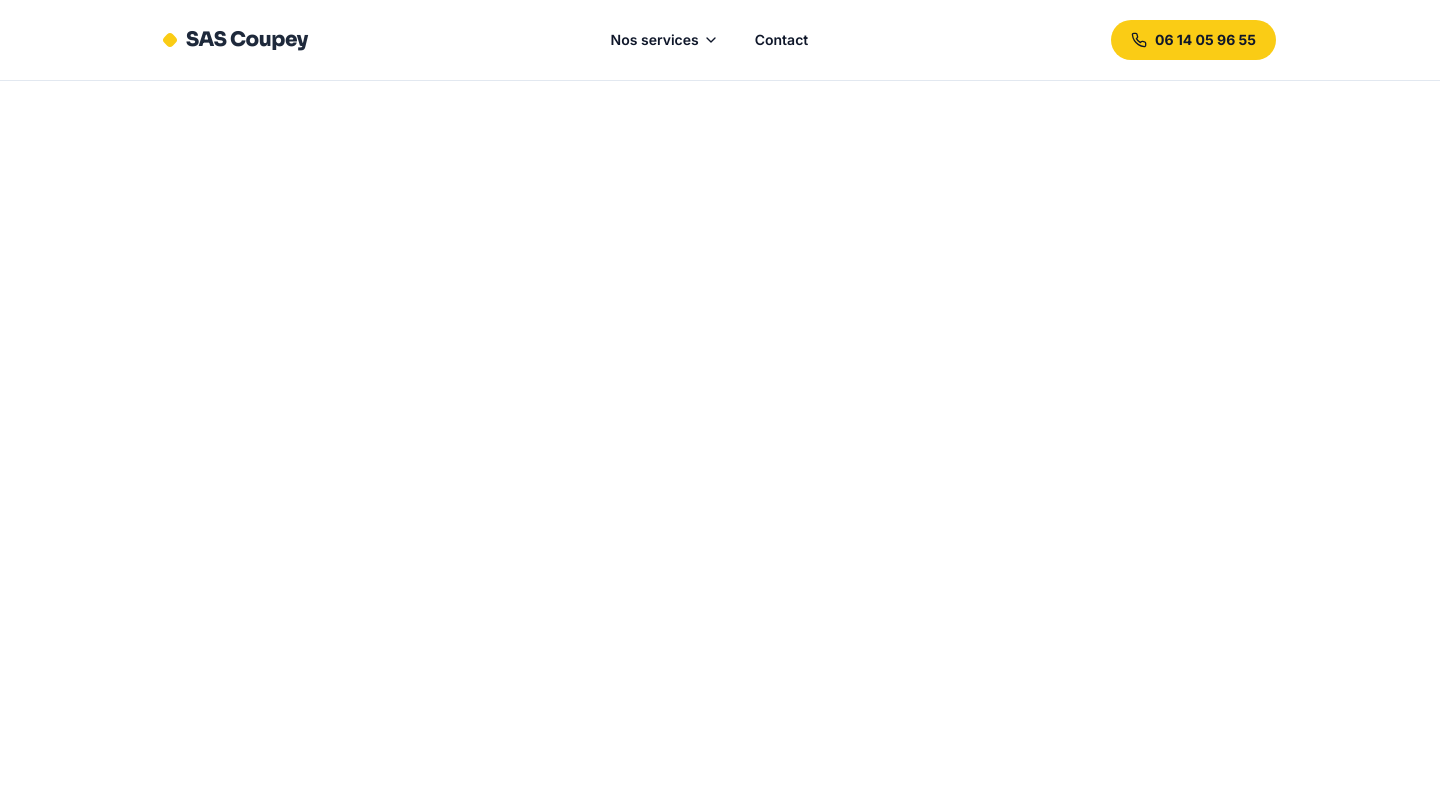
Test: Navbar › clic en dehors sans perte de focus (Safari, iPad : le bouton ne prend pas le focus) : menu fermé
Click the button "Nos services" at [665, 40], box [595, 22, 735, 58]
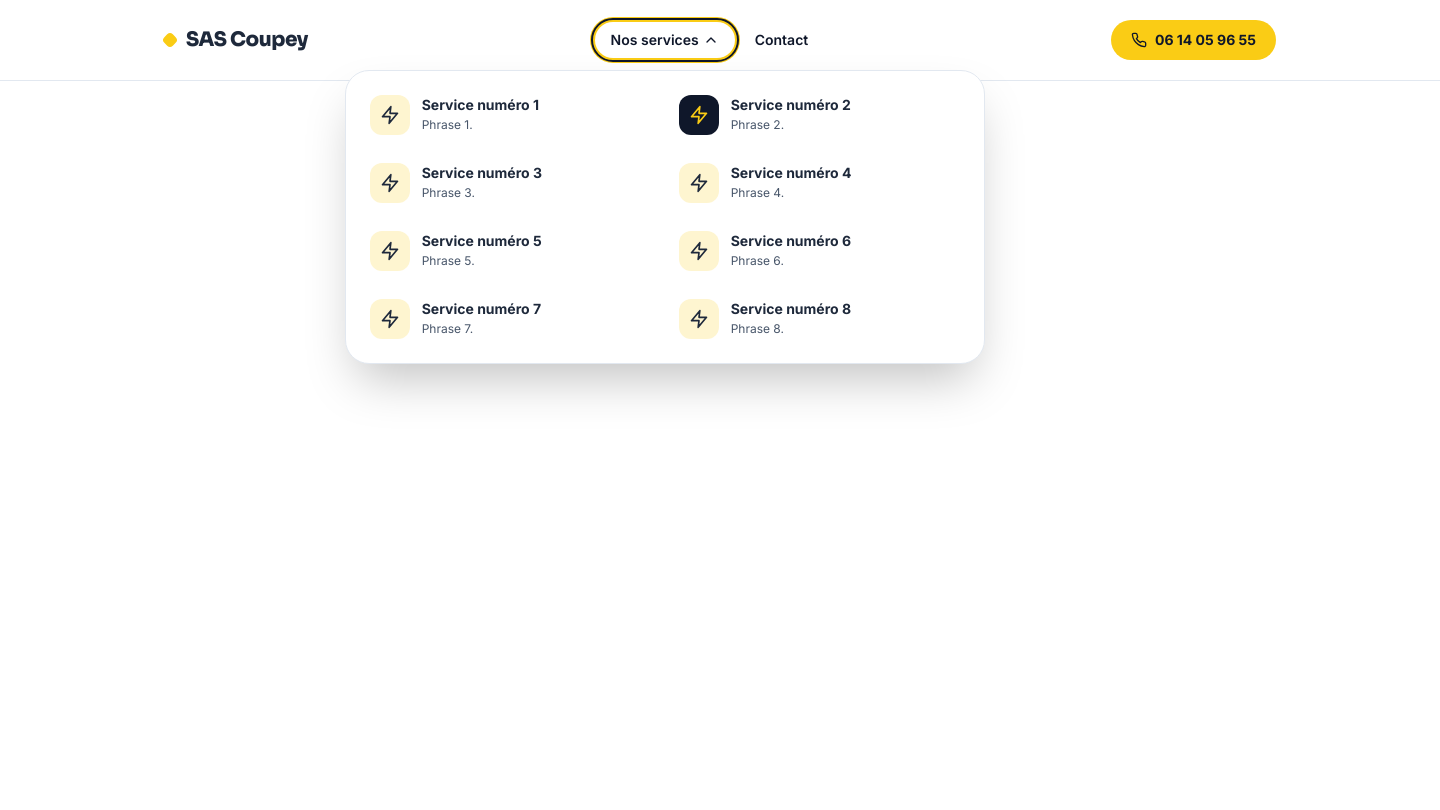
Press the mouse on the element that starts with "SAS Coupey" at [720, 405], box [0, 0, 1439, 809]
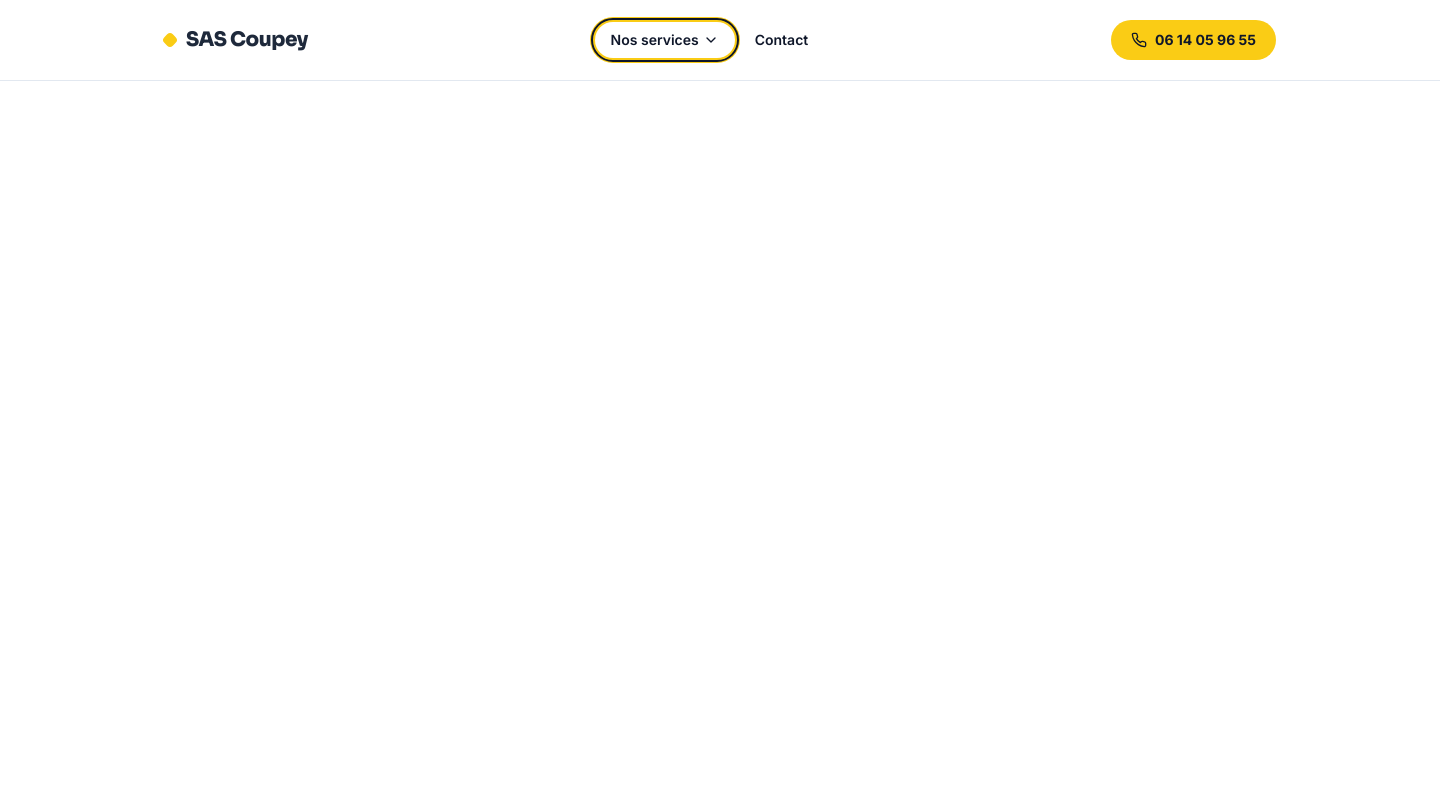
Check: the button "Nos services" is collapsed, box [595, 22, 735, 58]
